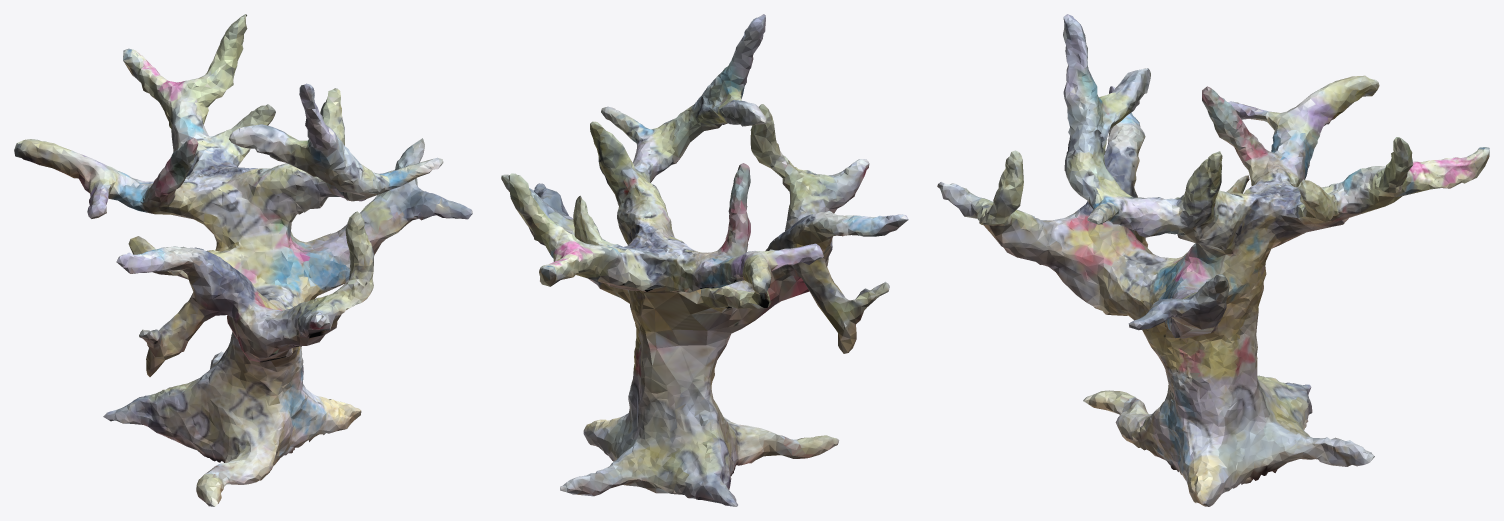
Rendered from tree.obj.
3 renders of one model, left to right at view 1: azimuth 30°, elevation 25°; view 2: azimuth 150°, elevation 25°; view 3: azimuth 270°, elevation 25°, orthographic. The views are drawn at different scales.
Parts seen in each view (by area): view 1: Tree; view 2: Tree; view 3: Tree.
Part boxes in pixels (box(x1,y1,x2,y2)): Tree: box(14, 14, 472, 506); Tree: box(501, 14, 908, 506); Tree: box(937, 14, 1489, 506).
Bounding box in the file's own units: 0.5724 × 0.6168 × 0.7079.
3 materials, 3 textured.
